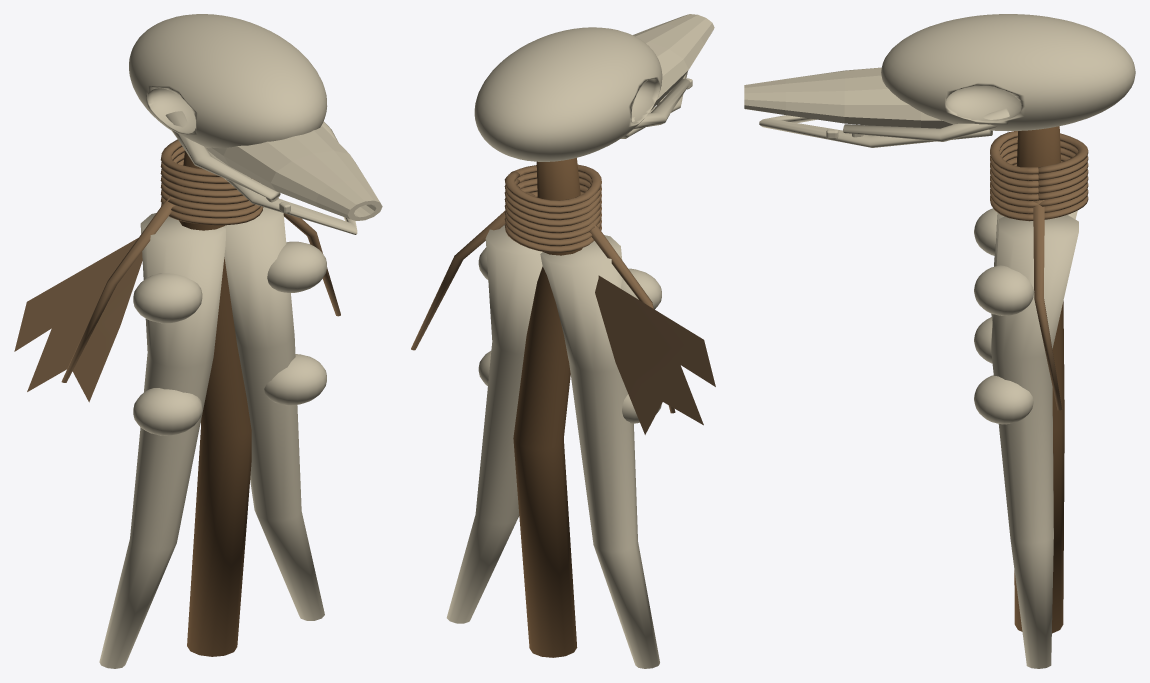
Rendered from sklpole3.glb.
The picture shows the model from 3 angles, left to right: view 1: azimuth 30°, elevation 25°; view 2: azimuth 150°, elevation 25°; view 3: azimuth 270°, elevation 25°; orthographic projection. The views are drawn at different scales.
Visible parts, largest first — view 1: SKL long splayed pale bone -1, SKL elongated animal cranium, SKL long splayed pale bone 1, SKL central weathered support, SKL tattered hanging hide, SKL tapered long muzzle, SKL tied joint bone.001, SKL tied joint bone, SKL tied joint bone.003, SKL tied joint bone.002, SKL tied hanging tendon -1, SKL cheek arch -1 (+10 smaller); view 2: SKL long splayed pale bone -1, SKL elongated animal cranium, SKL central weathered support, SKL long splayed pale bone 1, SKL tattered hanging hide, SKL tapered long muzzle, SKL tied hanging tendon 1, SKL hide coil 7, SKL tied hanging tendon -1, SKL hide coil 6, SKL hide coil 5, SKL cheek arch -1 (+6 smaller); view 3: SKL elongated animal cranium, SKL long splayed pale bone 1, SKL tapered long muzzle, SKL central weathered support, SKL tied joint bone.003, SKL tied joint bone.002, SKL tied hanging tendon 1, SKL lower long jaw, SKL cheek arch 1, SKL hide coil 7, SKL hide coil 6, SKL hide coil 5 (+7 smaller).
Boxes of the visible parts, x1,y1,x2,y2 form: SKL long splayed pale bone -1: (99, 213, 225, 668); SKL elongated animal cranium: (129, 14, 327, 148); SKL long splayed pale bone 1: (223, 207, 324, 620); SKL central weathered support: (179, 151, 251, 656); SKL tattered hanging hide: (14, 238, 142, 402); SKL tapered long muzzle: (206, 125, 382, 220); SKL tied joint bone.001: (133, 273, 202, 323); SKL tied joint bone: (133, 388, 202, 435); SKL tied joint bone.003: (267, 241, 326, 292); SKL tied joint bone.002: (264, 354, 326, 405); SKL tied hanging tendon -1: (61, 196, 175, 382); SKL cheek arch -1: (165, 111, 280, 200); SKL long splayed pale bone -1: (540, 235, 659, 668); SKL elongated animal cranium: (474, 27, 662, 161); SKL central weathered support: (513, 158, 582, 657); SKL long splayed pale bone 1: (446, 225, 542, 623); SKL tattered hanging hide: (595, 275, 715, 434); SKL tapered long muzzle: (633, 14, 714, 109); SKL tied hanging tendon 1: (411, 192, 535, 350); SKL hide coil 7: (504, 164, 601, 207); SKL tied hanging tendon -1: (589, 222, 675, 413); SKL hide coil 6: (504, 172, 601, 213); SKL hide coil 5: (504, 178, 601, 220); SKL cheek arch -1: (631, 78, 690, 129); SKL elongated animal cranium: (881, 14, 1135, 131); SKL long splayed pale bone 1: (991, 215, 1078, 668); SKL tapered long muzzle: (744, 67, 952, 128); SKL central weathered support: (1014, 126, 1064, 633); SKL tied joint bone.003: (974, 265, 1034, 315); SKL tied joint bone.002: (974, 375, 1033, 424); SKL tied hanging tendon 1: (1033, 193, 1062, 410); SKL lower long jaw: (759, 115, 992, 147); SKL cheek arch 1: (843, 108, 1009, 141); SKL hide coil 7: (990, 131, 1088, 174); SKL hide coil 6: (990, 137, 1088, 181); SKL hide coil 5: (990, 144, 1088, 187).
Size of the model in its own units: 0.9361 by 1.72 by 1.02.
